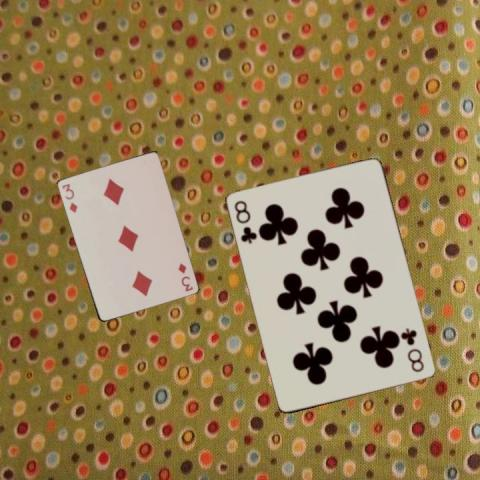3d: (58, 181, 78, 214), (175, 260, 194, 293)
8c: (231, 198, 259, 246), (399, 325, 426, 374)
